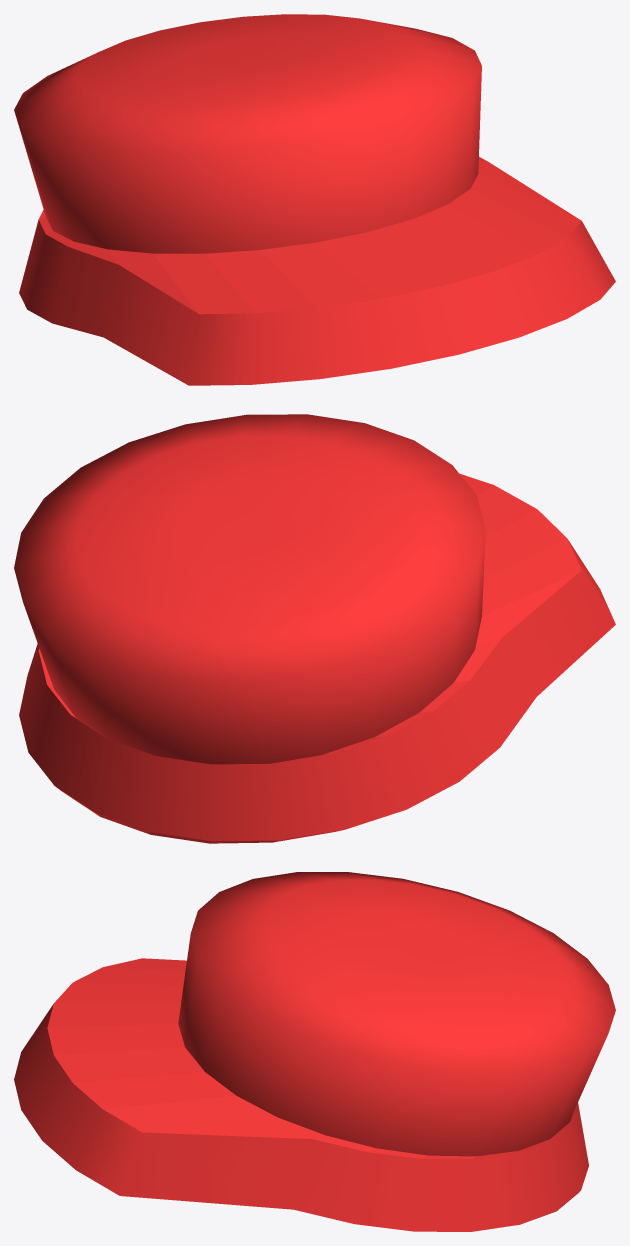
The model's file is Hat_Uniform.fbx.
3 renders of one model, top to bottom at view 1: azimuth 30°, elevation 25°; view 2: azimuth 150°, elevation 25°; view 3: azimuth 270°, elevation 25°, orthographic. The views are drawn at different scales.
Visible parts, largest first — view 1: Cap; view 2: Cap; view 3: Cap.
Boxes of the visible parts, left/top/right/bottom form: Cap: left=14, top=14, right=615, bottom=385; Cap: left=14, top=414, right=615, bottom=843; Cap: left=14, top=872, right=615, bottom=1231.
Size of the model in its own units: 19.51 by 11.06 by 24.56.
